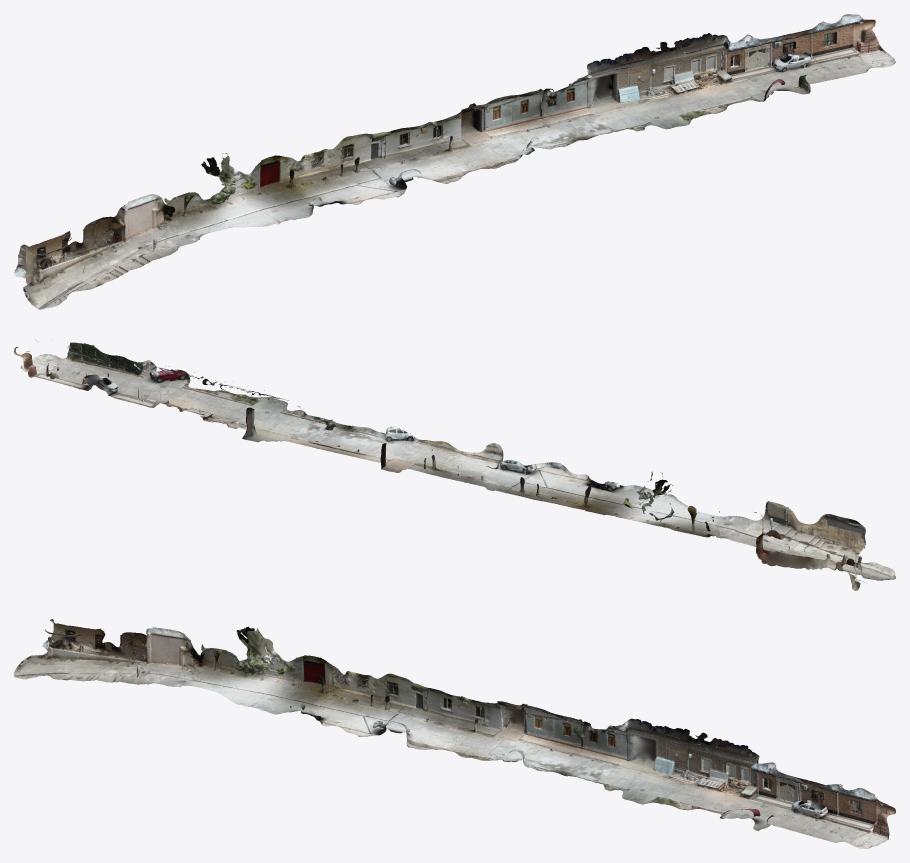
The model's file is angren-2.glb.
The picture shows the model from 3 angles, top to bottom: view 1: azimuth 30°, elevation 25°; view 2: azimuth 150°, elevation 25°; view 3: azimuth 330°, elevation 25°; orthographic projection. The views are drawn at different scales.
Visible parts, largest first — view 1: Story 1, Story 0; view 2: Story 1, Story 0; view 3: Story 1, Story 0.
Boxes of the visible parts, <box> form: Story 1: <box>18,14,895,272</box>; Story 0: <box>14,50,886,309</box>; Story 1: <box>14,339,865,572</box>; Story 0: <box>21,365,895,590</box>; Story 1: <box>44,619,895,848</box>; Story 0: <box>14,633,888,842</box>.
Size of the model in its own units: 109 by 9.48 by 12.16.
7 materials, 7 textured.
